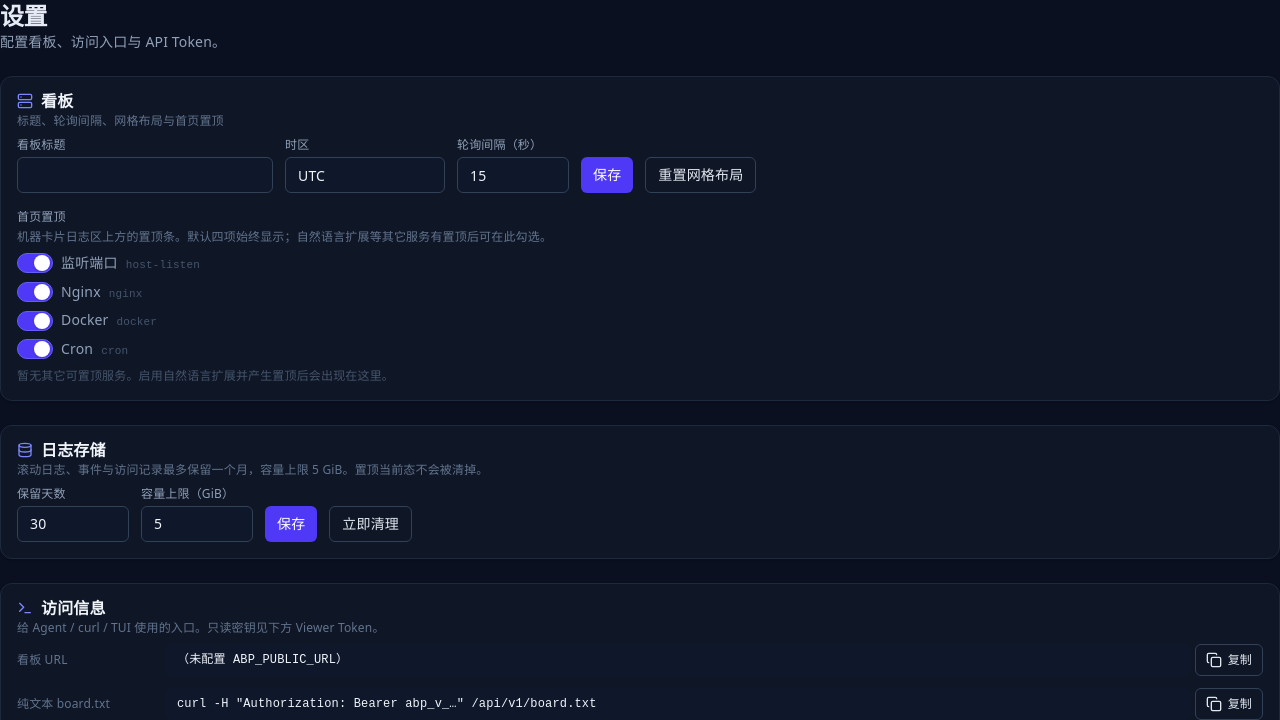
Test: SettingsPage log storage › keeps storage cleanup separate from automatic stale-run close
Check: the text "滚动日志、事件与访问记录最多保留一个月，容量上限 5 GiB。置顶当前态不会被清掉。" is shown, box [17,461,488,478]
Click the button "立即清理" at (371, 524), box [329,506,412,542]
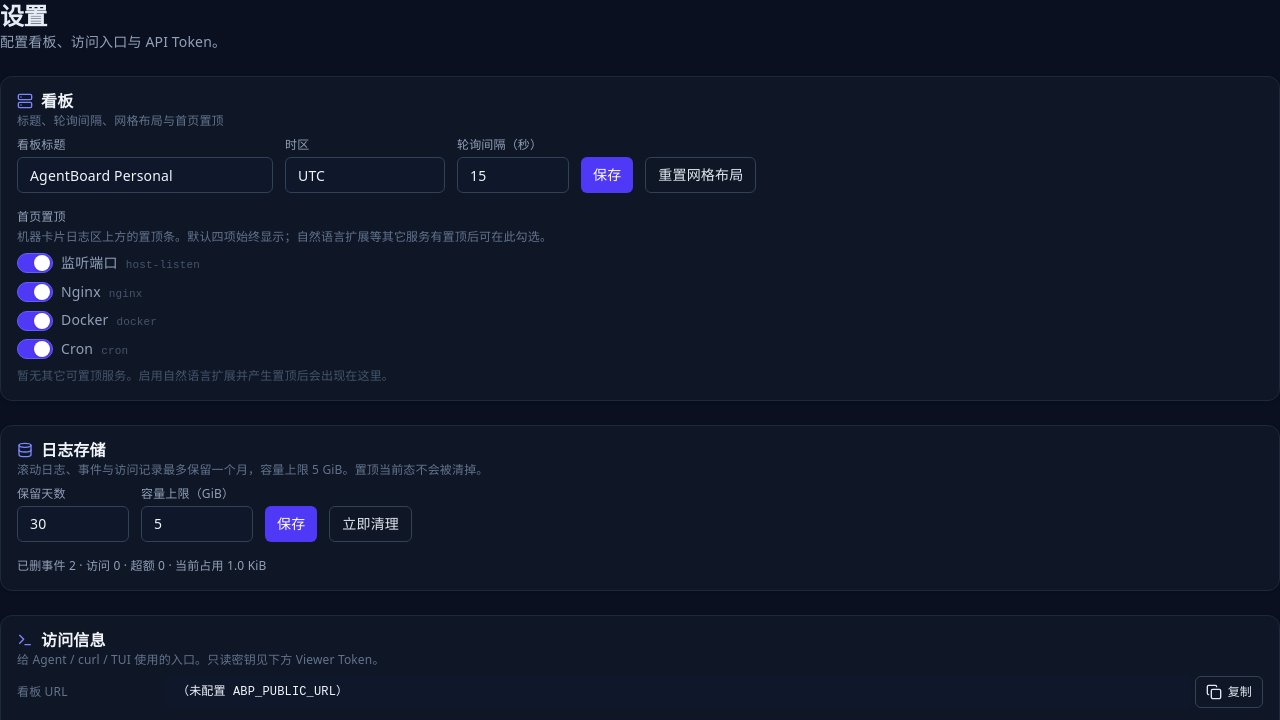
Check: the text "已删事件 2 · 访问 0 · 超额 0 · 当前占用 1.0 KiB" is shown, box [17,557,266,574]
